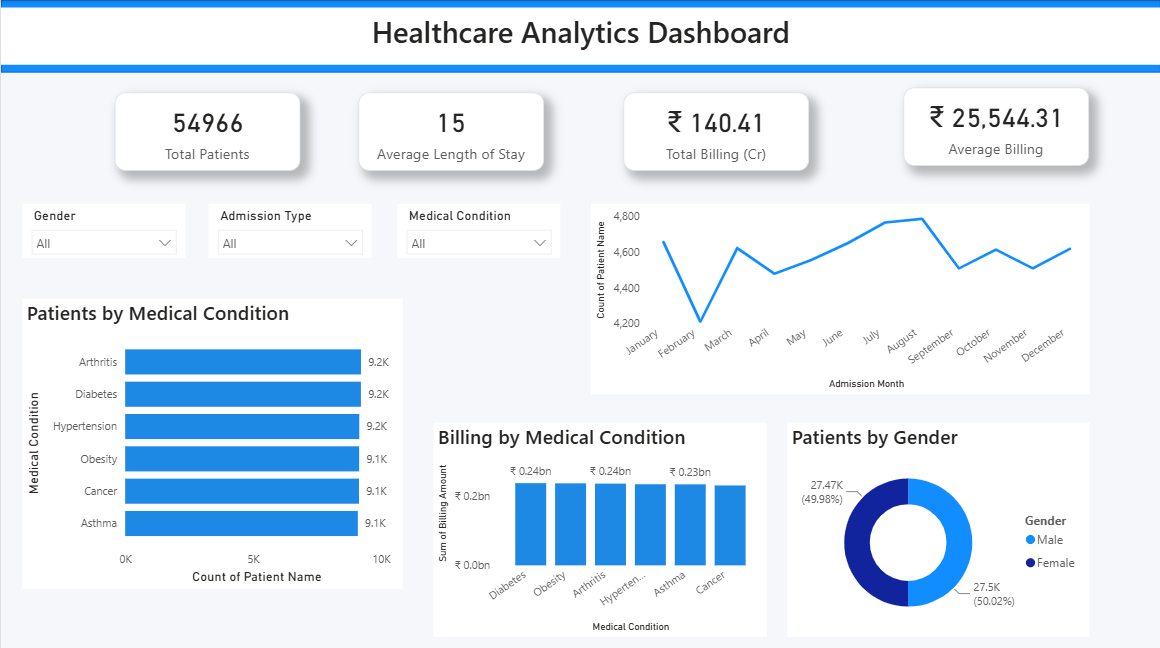

What the dashboard file says about the page in this screenshot:
{"tool":"powerbi","page":{"name":"Page 1","canvas":[1280,720],"ordinal":0},"visuals":[{"type":"card","fields":{"Values":["Healthcare_Data.Total Patients"]},"box":[125,101.7,205,86.7],"z":0},{"type":"card","fields":{"Values":["Healthcare_Data.Total Billing (Cr)"]},"box":[686.7,101.7,205,86.7],"z":1000},{"type":"card","fields":{"Values":["Healthcare_Data.Average Billing"]},"box":[996.7,96.7,205,86.7],"z":2000},{"type":"card","fields":{"Values":["Healthcare_Data.Average Length of Stay"]},"box":[395,101.7,205,86.7],"z":3000},{"type":"donutChart","title":"Patients by Gender","fields":{"Category":["Healthcare_Data.Gender"],"Y":["CountNonNull(Healthcare_Data.Patient Name)"]},"box":[868.3,466.7,333.3,236.7],"z":4000},{"type":"clusteredBarChart","title":"Patients by Medical Condition","fields":{"Category":["Healthcare_Data.Medical Condition"],"Y":["CountNonNull(Healthcare_Data.Patient Name)"]},"box":[23.3,330,420,320],"z":5000},{"type":"clusteredColumnChart","title":"Billing by Medical Condition","fields":{"Category":["Healthcare_Data.Medical Condition"],"Y":["Sum(Healthcare_Data.Billing Amount)"]},"box":[476.7,466.7,368.3,236.7],"z":6000},{"type":"lineChart","fields":{"Category":["Healthcare_Data.Admission Month"],"Y":["CountNonNull(Healthcare_Data.Patient Name)"]},"box":[651.7,225,550,210],"z":7000},{"type":"slicer","fields":{"Values":["Healthcare_Data.Gender"]},"box":[23.3,225,180,60],"z":8000},{"type":"slicer","fields":{"Values":["Healthcare_Data.Admission Type"]},"box":[228.3,225,180,60],"z":9000},{"type":"slicer","fields":{"Values":["Healthcare_Data.Medical Condition"]},"box":[436.7,225,180,60],"z":10000},{"type":"textbox","box":[11.7,8.3,765,40],"z":11000},{"type":"shape","box":[0,0,1280,80],"z":12000},{"type":"textbox","box":[0,8.3,1280,63.3],"z":13000}]}

Visuals, with their boxes in screenshot pixels (x1, y1, x2, y2), scaled from the page's 1280x720 canvas onto the 1160x648 screenshot:
card - Healthcare_Data.Total Patients: crop(113, 92, 299, 170)
card - Healthcare_Data.Total Billing (Cr): crop(622, 92, 808, 170)
card - Healthcare_Data.Average Billing: crop(903, 87, 1089, 165)
card - Healthcare_Data.Average Length of Stay: crop(358, 92, 544, 170)
"Patients by Gender" donutChart: crop(787, 420, 1089, 633)
"Patients by Medical Condition" clusteredBarChart: crop(21, 297, 402, 585)
"Billing by Medical Condition" clusteredColumnChart: crop(432, 420, 766, 633)
lineChart - Healthcare_Data.Admission Month x CountNonNull(Healthcare_Data.Patient Name): crop(591, 202, 1089, 392)
slicer - Healthcare_Data.Gender: crop(21, 202, 184, 256)
slicer - Healthcare_Data.Admission Type: crop(207, 202, 370, 256)
slicer - Healthcare_Data.Medical Condition: crop(396, 202, 559, 256)
textbox: crop(11, 7, 704, 43)
shape: crop(0, 0, 1159, 72)
textbox: crop(0, 7, 1159, 64)
